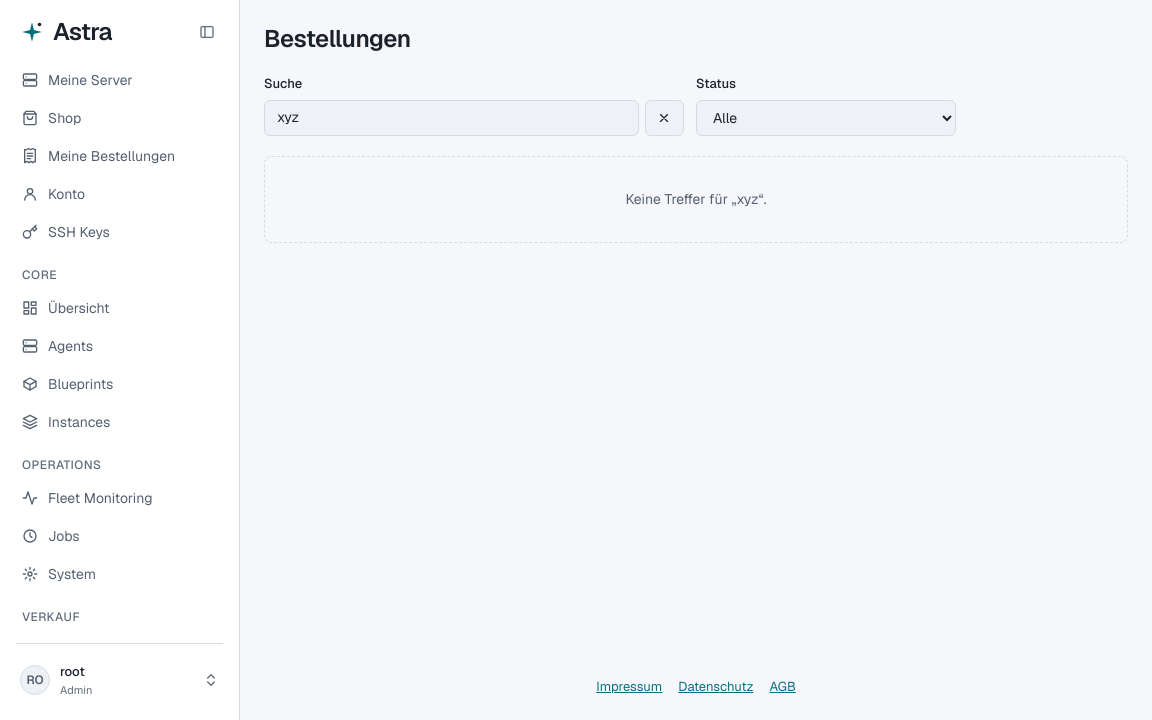
Test case: AdminOrdersPage › zeigt 'Keine Treffer' bei leerer Suche und bietet den Leeren-Button
Expected: the text "Keine Treffer für „xyz“." is shown, 264,156 -> 1128,242
Click the button named "Suche leeren". click: (664, 118)
box: 645,100 -> 684,136
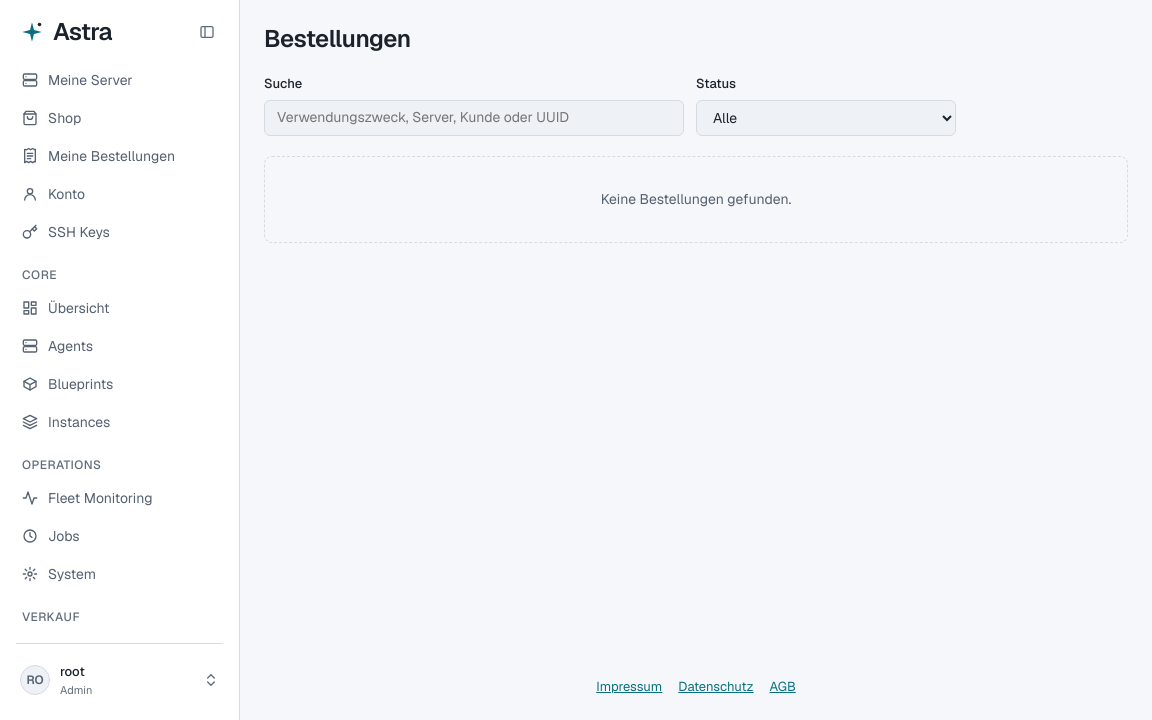
Expected: the text "Keine Bestellungen gefunden." is shown, 264,156 -> 1128,242
